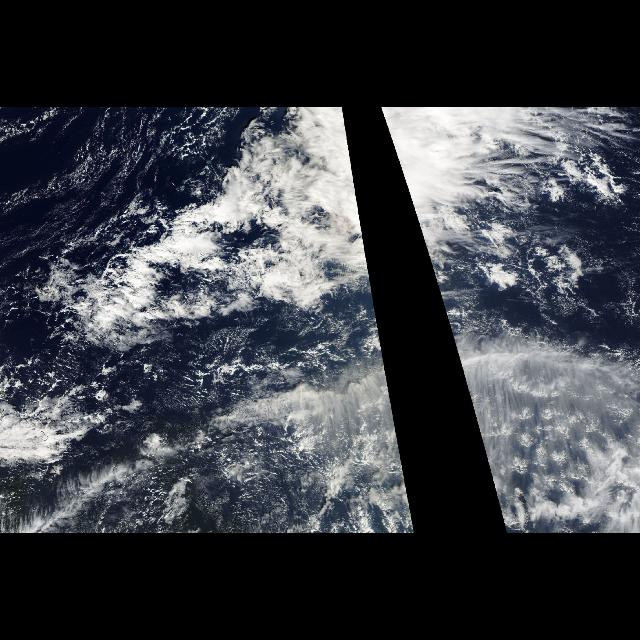Fish: (61, 107, 385, 353), (380, 107, 608, 351), (190, 356, 398, 436), (458, 356, 634, 436)
Flower: (458, 360, 632, 530), (304, 360, 416, 530)
Sugar: (3, 109, 245, 214)
